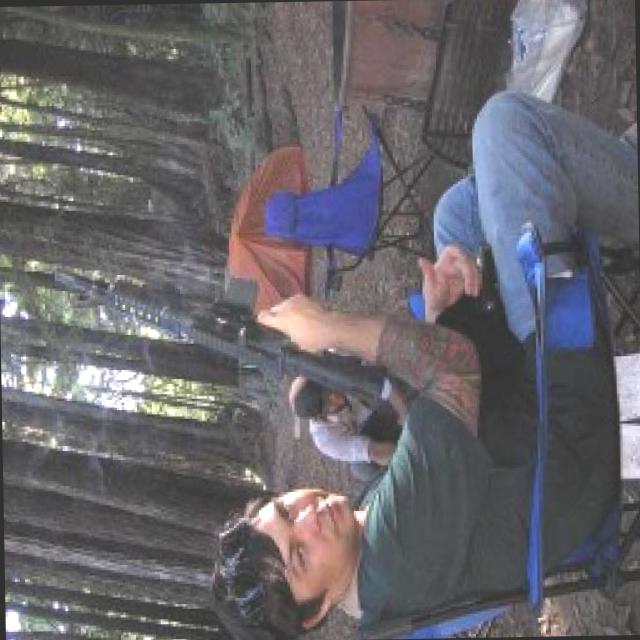long weapon: (34, 250, 396, 416)
